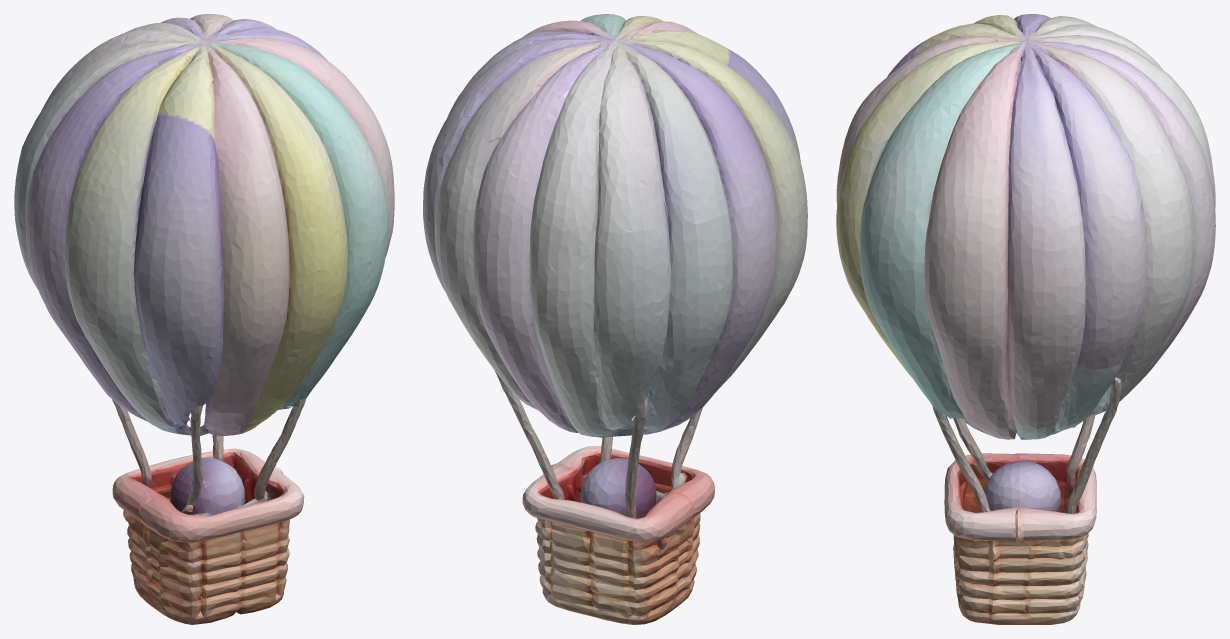
File: prop_hotair.glb
The picture shows the model from 3 angles, left to right: view 1: azimuth 30°, elevation 25°; view 2: azimuth 150°, elevation 25°; view 3: azimuth 270°, elevation 25°; orthographic projection.
Parts seen in each view (by area): view 1: world; view 2: world; view 3: world.
Boxes of the visible parts, left/top/right/bottom form: world: left=14, top=14, right=394, bottom=624; world: left=423, top=14, right=807, bottom=624; world: left=836, top=14, right=1215, bottom=624.
Size of the model in its own units: 0.6126 by 1 by 0.6146.
1 material, 1 textured.
